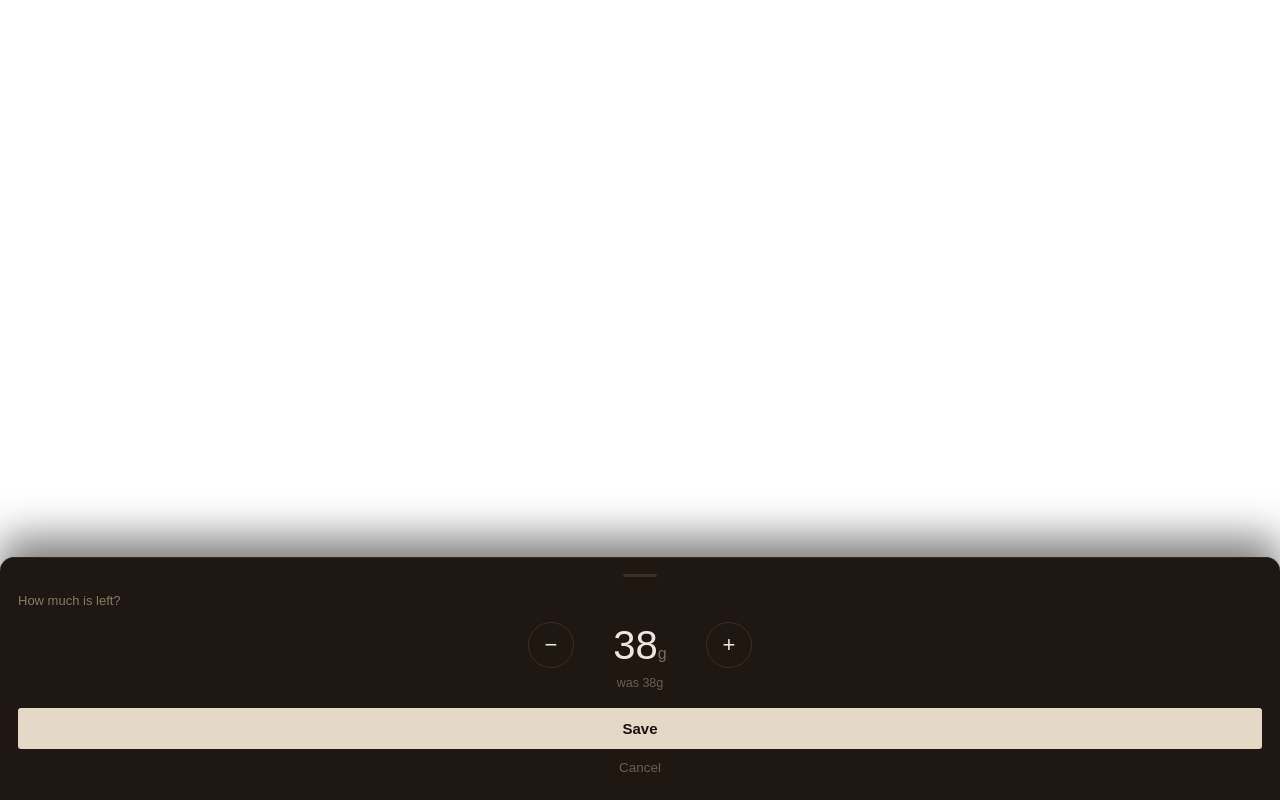
Scenario: GramsSheet › steps up by one gram
Click the button with test id "grams-plus". click: (729, 645)
box: [706,622,752,668]
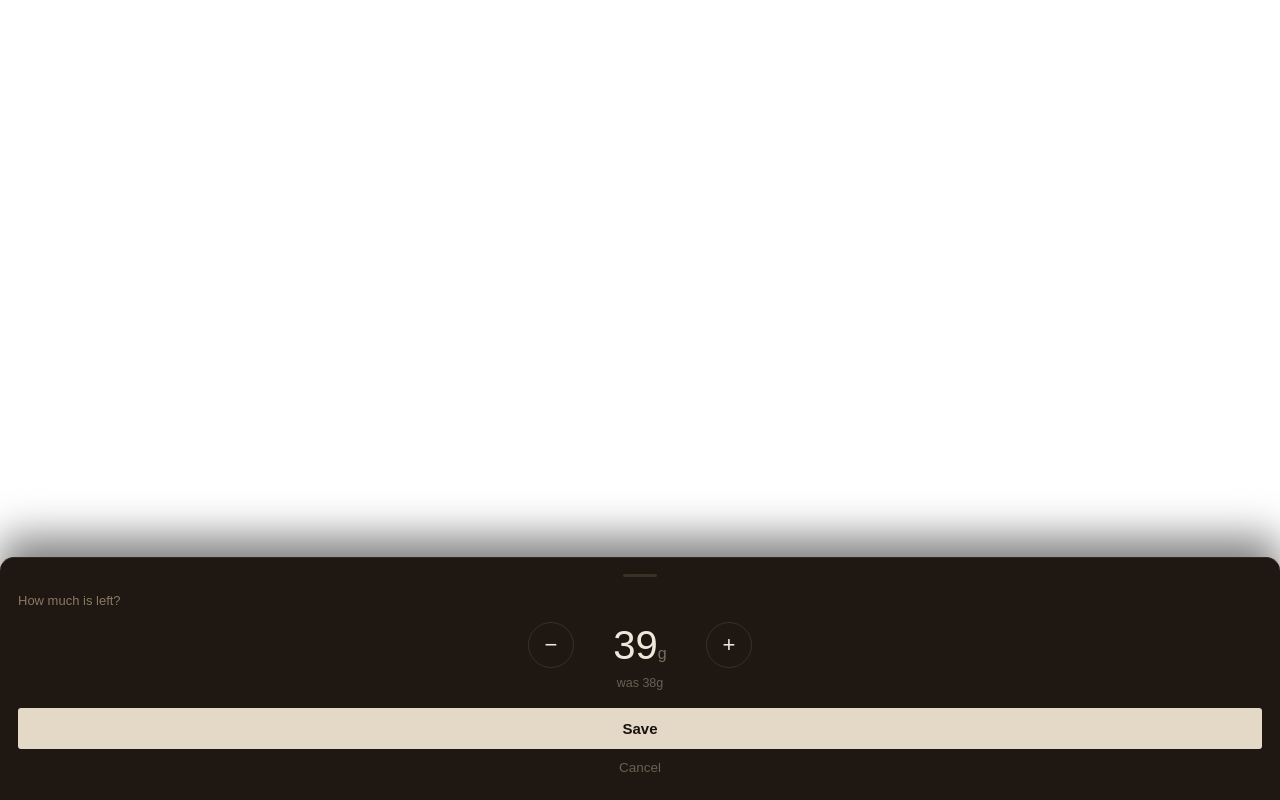
Check: the element with test id "grams-value" shows "39", box [613,622,658,666]
